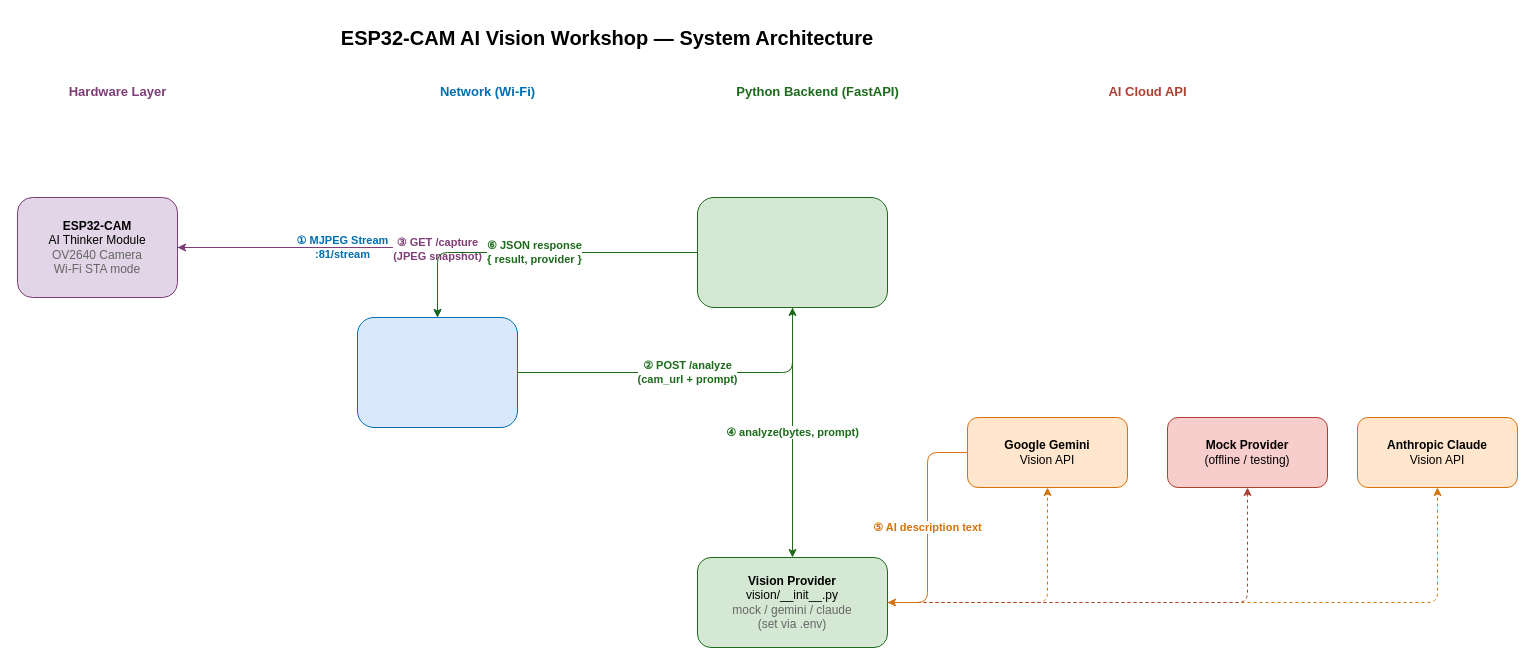
The diagram is 1535 pixels wide and 665 high, and some of its shapes have lost their labels. The shapes that lost their labels are listed below. From the top down, each one's centre as x and y in pixels, then its label:
At [792,252]: "FastAPI Server main.py POST /analyze POST /analyze-upload GET /prompts".
At [437,372]: "Student Browser Web UI (index.html) Shows stream Sends prompt Displays result".
